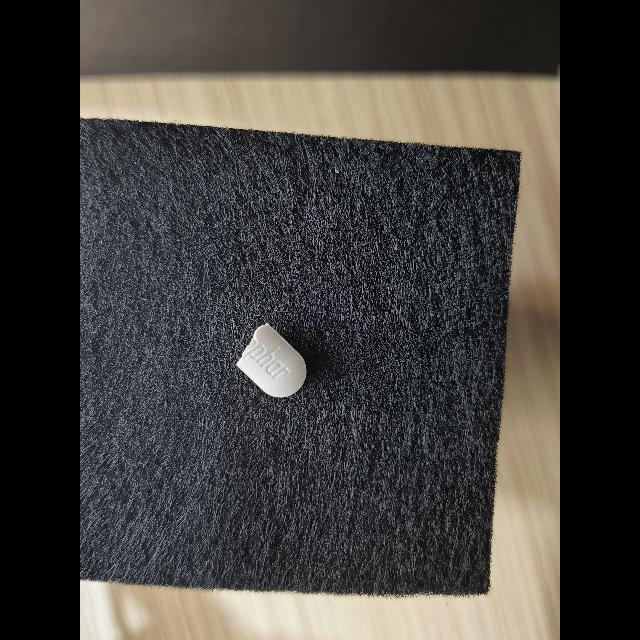Chipped Pill: (236, 323, 306, 397)
